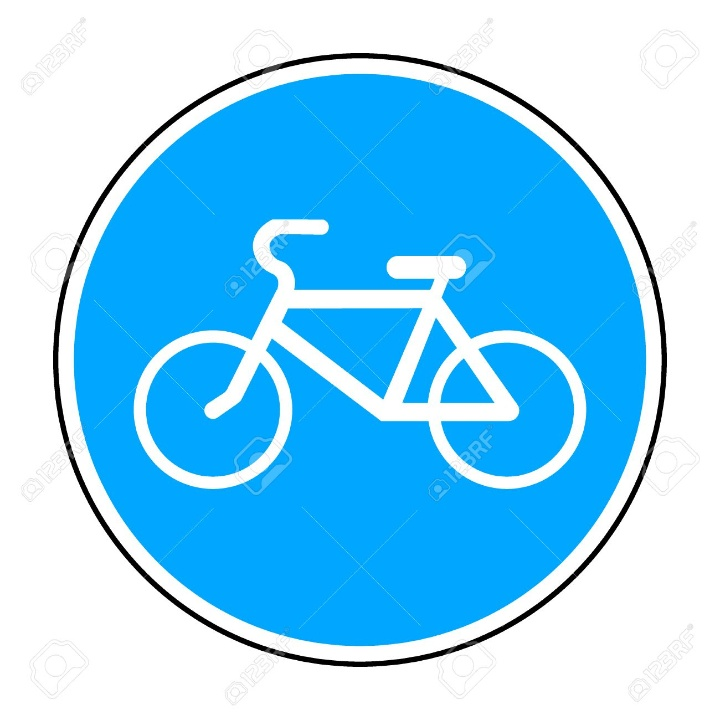bicycle: (130, 212, 590, 496)
